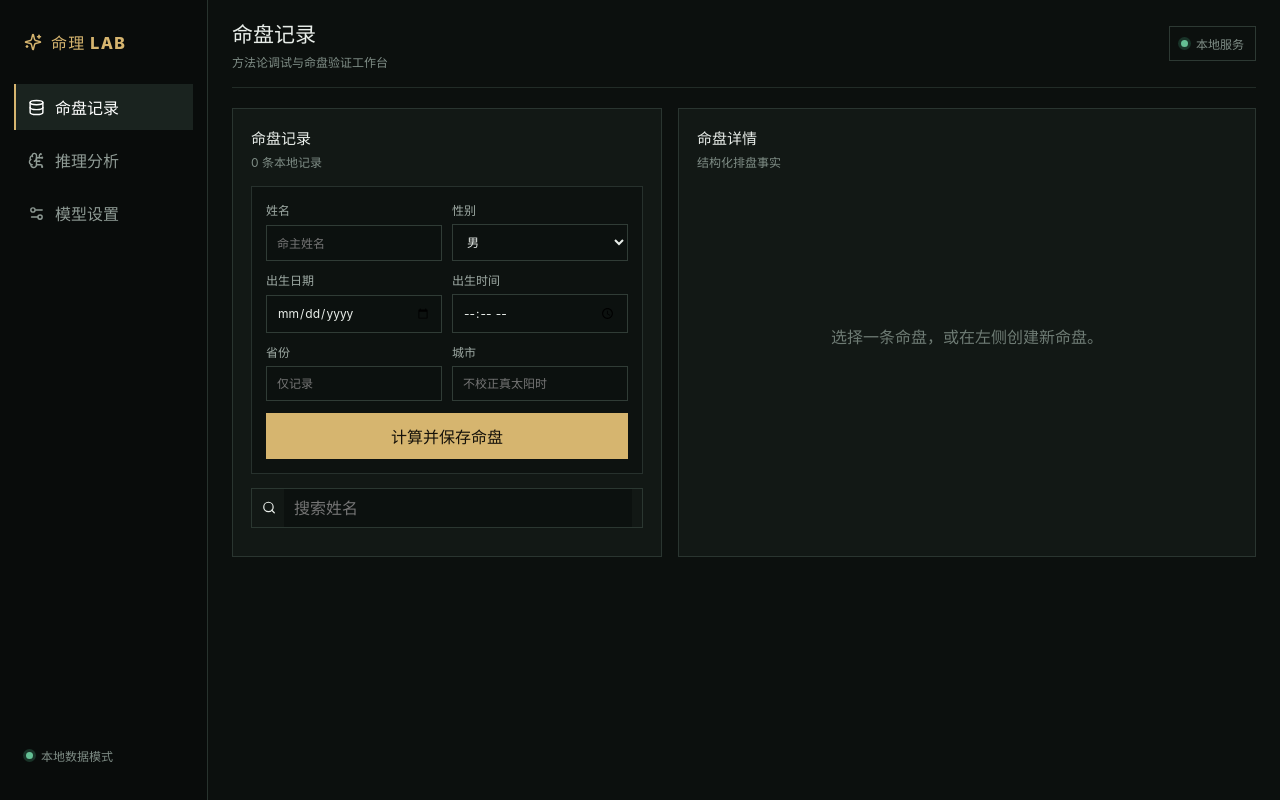
Test: switches from chart workspace to inference workspace
This screenshot has width=1280, height=800.
Expected: the heading "命盘记录" in the row of "本地服务" is shown, [232,22,316,46]
Click the button "推理分析" at (104, 160), box [14,137,193,183]
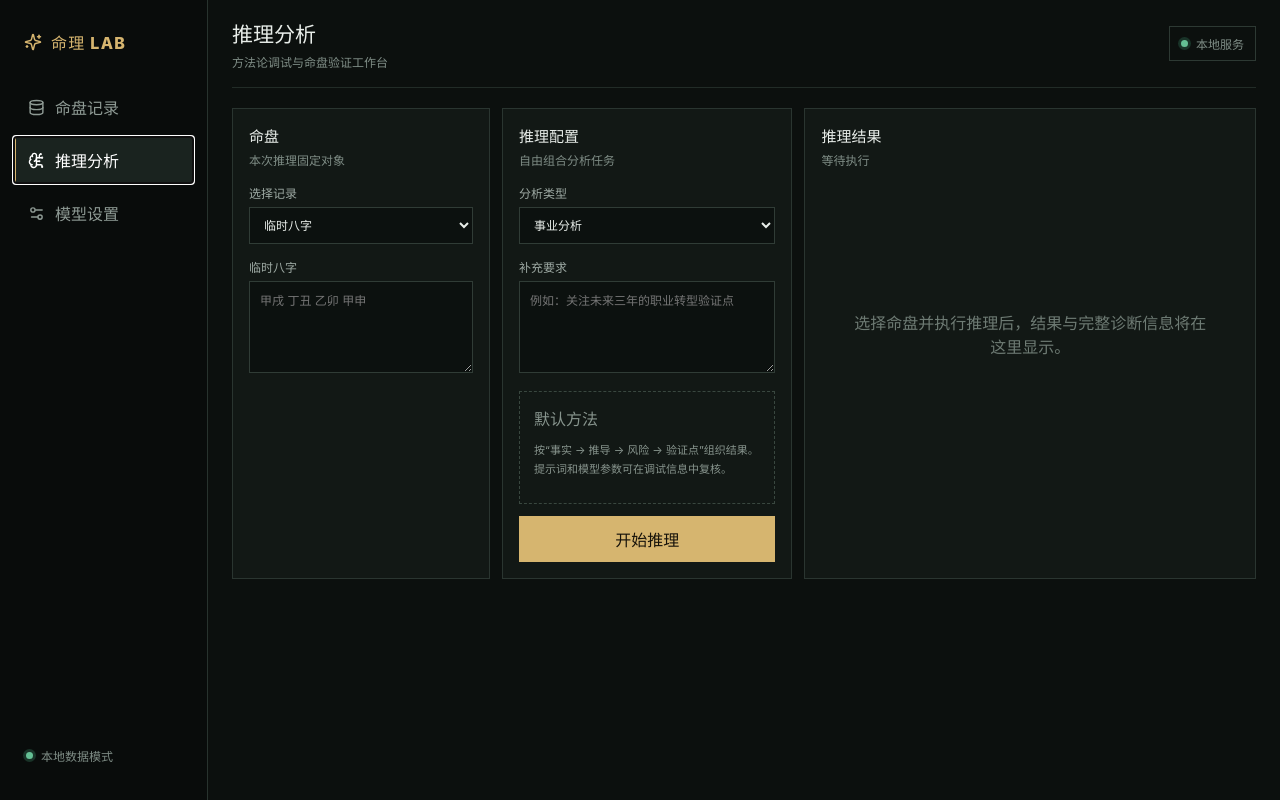
Result: the heading "推理分析" is shown at [232,22,316,46]
Result: the button "开始推理" is shown at [519,516,775,562]
